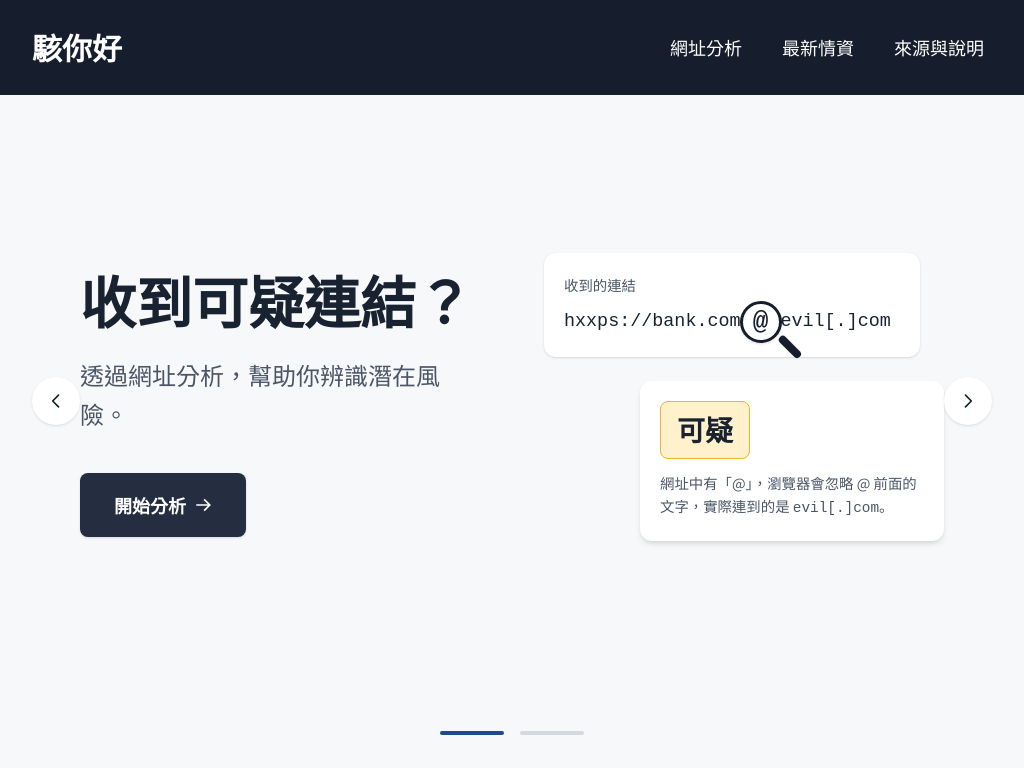
Test: 首頁主視覺輪播 › 上一張／下一張到頭會繞回另一端
What coordinates should you click on to do the following:
click the button named "上一張"
I would click on:
 (56, 401)
Its box is [32,377,80,425].
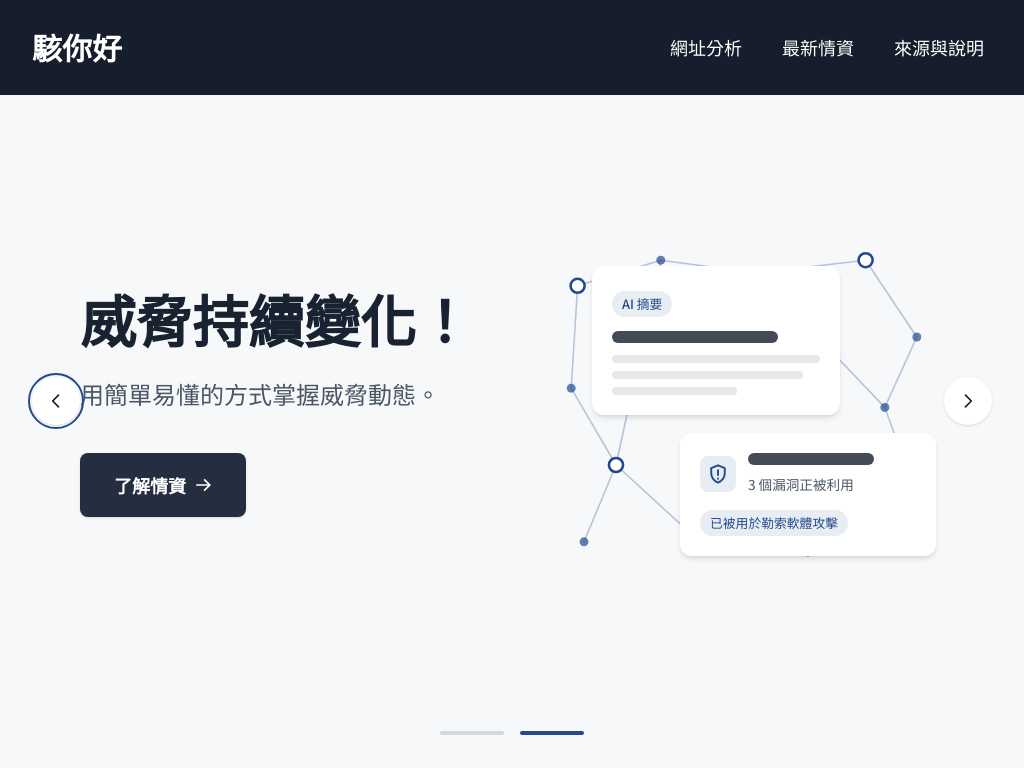
Now the text "威脅持續變化！" is shown, box [80,284,480,354]
What coordinates should you click on to do the following:
click the button named "下一張"
I would click on:
 (968, 401)
Its box is [944,377,992,425].
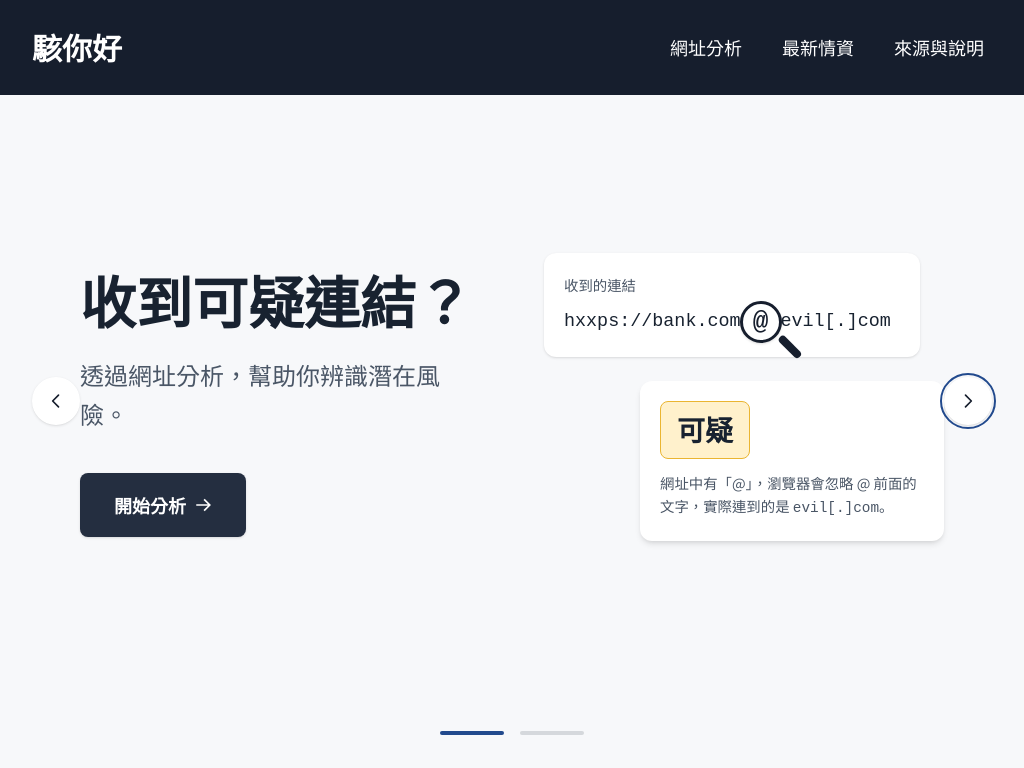
Now the text "收到可疑連結？" is shown, box [80,265,480,335]
